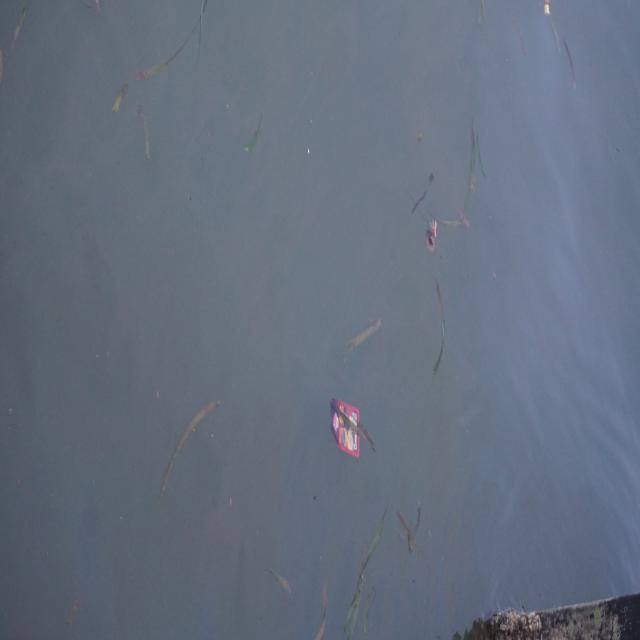Bungkus Makanan: (328, 395, 364, 460)
